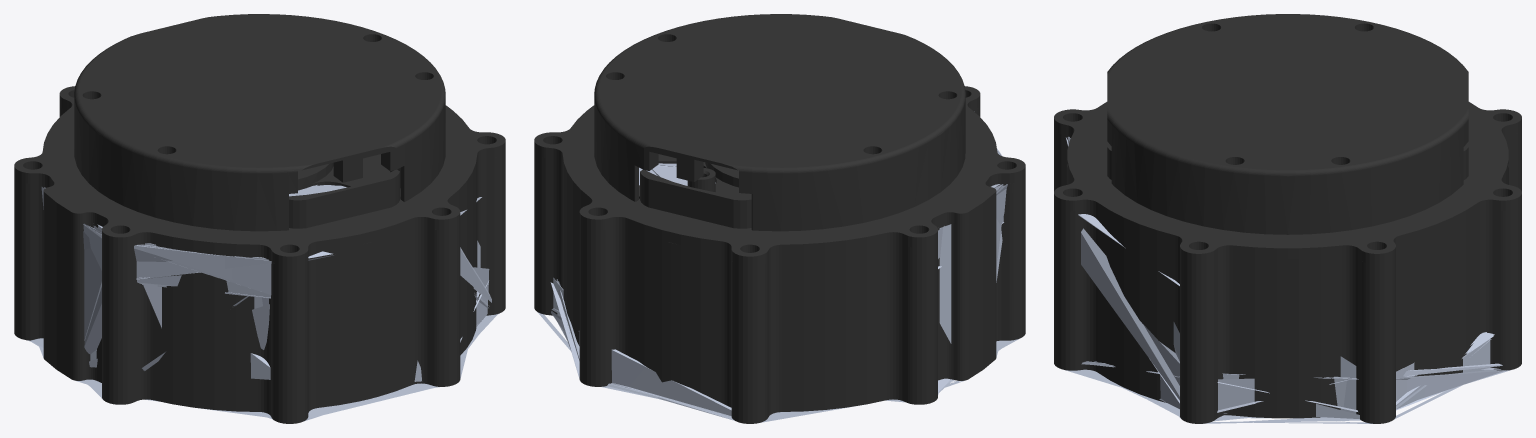
The model's file is BR_thigh_link.dae.
The picture shows the model from 3 angles, left to right: view 1: azimuth 30°, elevation 25°; view 2: azimuth 150°, elevation 25°; view 3: azimuth 270°, elevation 25°; orthographic projection.
Parts seen in each view (by area): view 1: node0, node4, node1, node2; view 2: node0, node4, node1, node2; view 3: node0, node4, node1, node2.
Part boxes in pixels (bbox=[...]): node0: bbox=[14, 14, 505, 423]; node4: bbox=[27, 185, 491, 419]; node1: bbox=[42, 185, 480, 401]; node2: bbox=[44, 187, 499, 421]; node0: bbox=[534, 14, 1025, 423]; node4: bbox=[537, 111, 1020, 423]; node1: bbox=[551, 148, 1006, 412]; node2: bbox=[550, 169, 1012, 412]; node0: bbox=[1054, 14, 1521, 423]; node4: bbox=[1066, 136, 1494, 423]; node1: bbox=[1082, 322, 1502, 423]; node2: bbox=[1065, 336, 1510, 423].
Size of the model in its own units: 0.0995 by 0.0566 by 0.0985.
